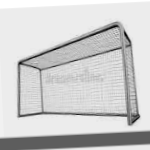goals: (16, 19, 141, 126)
